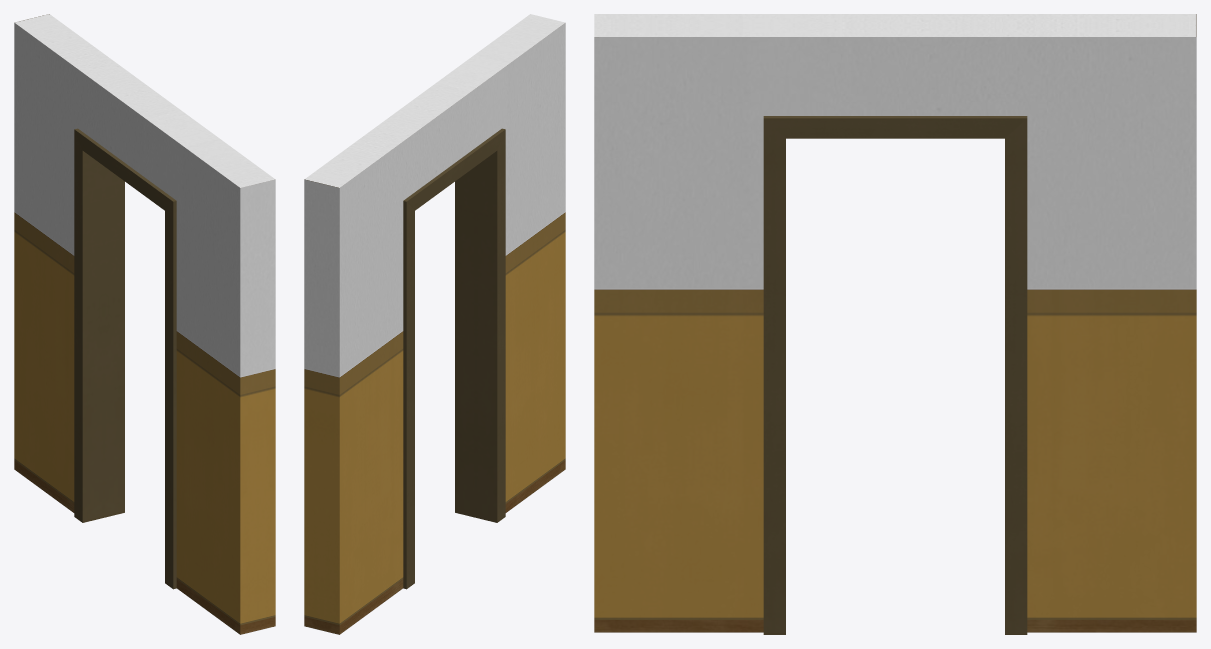
The model's file is Doorframe.fbx.
The picture shows the model from 3 angles, left to right: view 1: azimuth 30°, elevation 25°; view 2: azimuth 150°, elevation 25°; view 3: azimuth 270°, elevation 25°; orthographic projection. The views are drawn at different scales.
Visible parts, largest first — view 1: Doorframe; view 2: Doorframe; view 3: Doorframe.
Boxes of the visible parts, bbox=[...] form: Doorframe: bbox=[14, 14, 275, 634]; Doorframe: bbox=[304, 14, 565, 634]; Doorframe: bbox=[594, 14, 1196, 634].
Bounding box in the file's own units: 0.2379 × 2.4 × 2.2.
1 material, 1 textured.
